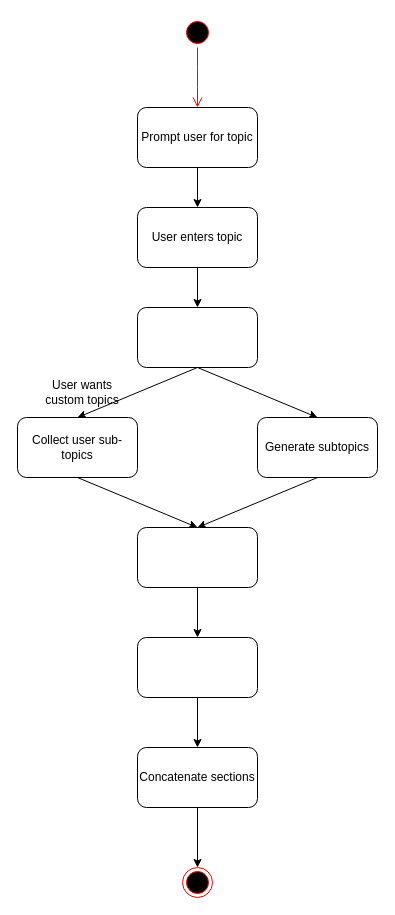
Some shapes in this 395 by 915 pixel diagram are drawn without their labels. Each missing label, with the centre of its shape:
Feed PDF to AI to generate essay section: [197,667]
Prompt user for custom sub-topics: [197,337]
Search for PDF for each subtopic: [197,557]
